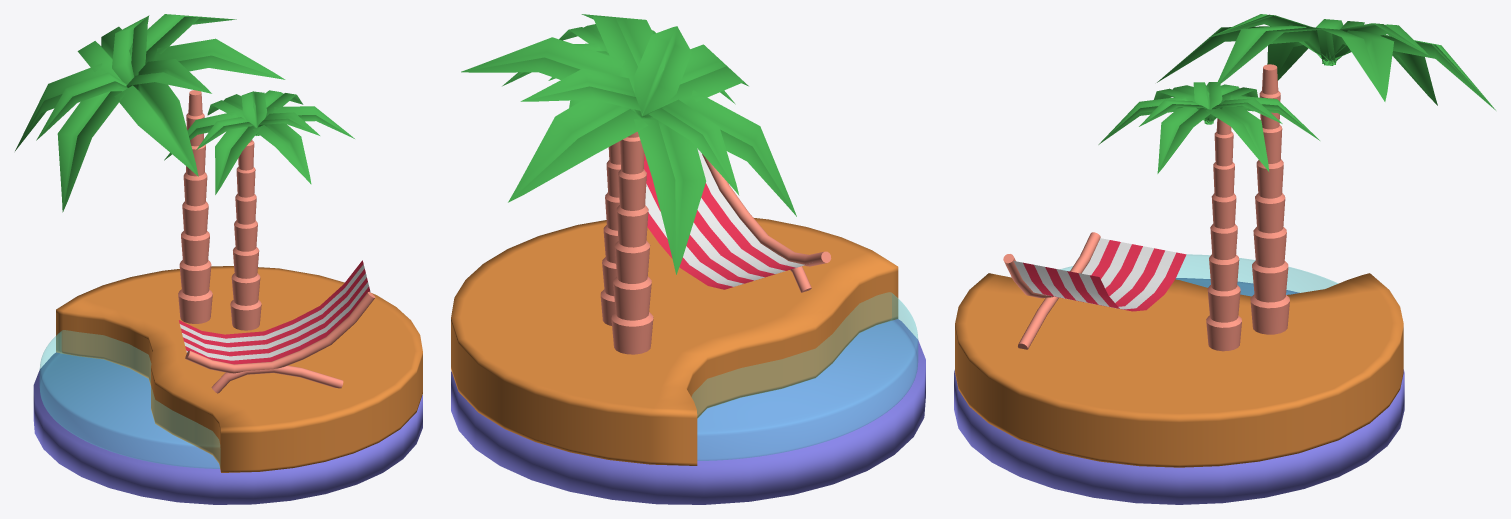
File: Insel.glb
3 renders of one model, left to right at view 1: azimuth 30°, elevation 25°; view 2: azimuth 150°, elevation 25°; view 3: azimuth 270°, elevation 25°, orthographic. The views are drawn at different scales.
Parts seen in each view (by area): view 1: Roundcube.001, Circle, Roundcube, Vert, Cylinder, Cylinder.001, Plane.003, Plane.004, Plane.002, Vert.001, Plane.006, Plane.001 (+14 smaller); view 2: Roundcube.001, Circle, Roundcube, Vert, Cylinder, Plane, Plane.005, Plane.001, Plane.004, Plane.007, Plane.008, Plane.006 (+5 smaller); view 3: Roundcube.001, Circle, Vert, Cylinder, Cylinder.001, Plane.001, Plane.002, Roundcube, Plane.011, Plane.010, Plane, Vert.001 (+9 smaller).
Boxes of the visible parts, x1,y1,x2,y2 form: Roundcube.001: [56, 266, 422, 472]; Circle: [33, 352, 422, 504]; Roundcube: [40, 330, 220, 468]; Vert: [179, 260, 370, 364]; Cylinder: [178, 90, 212, 323]; Cylinder.001: [230, 139, 261, 330]; Plane.003: [114, 82, 198, 176]; Plane.004: [57, 90, 125, 212]; Plane.002: [151, 38, 285, 79]; Vert.001: [185, 292, 375, 373]; Plane.006: [112, 15, 149, 84]; Plane.001: [129, 14, 236, 64]; Roundcube.001: [451, 218, 898, 465]; Circle: [451, 319, 925, 504]; Roundcube: [692, 292, 917, 460]; Vert: [644, 148, 804, 289]; Cylinder: [611, 131, 653, 354]; Plane: [508, 90, 647, 202]; Plane.005: [634, 117, 706, 274]; Plane.001: [461, 37, 635, 111]; Plane.004: [648, 90, 796, 216]; Plane.007: [634, 26, 691, 115]; Plane.008: [641, 99, 739, 195]; Plane.006: [520, 68, 642, 117]; Roundcube.001: [955, 273, 1403, 467]; Circle: [954, 278, 1404, 504]; Vert: [1014, 238, 1186, 311]; Cylinder: [1250, 64, 1289, 334]; Cylinder.001: [1206, 118, 1241, 351]; Plane.001: [1317, 28, 1394, 101]; Plane.002: [1214, 26, 1335, 88]; Roundcube: [1060, 254, 1337, 296]; Plane.011: [1157, 107, 1214, 173]; Plane.010: [1204, 106, 1269, 171]; Plane: [1324, 32, 1495, 110]; Vert.001: [1003, 232, 1100, 298].
Size of what is drawn, in the model's own units: 8 by 7.75 by 9.64.
